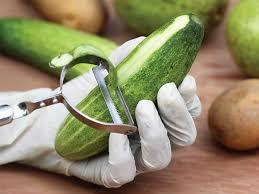Organic: (2, 1, 259, 194)
